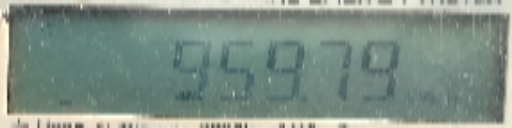5: (217, 32, 261, 107)
7: (319, 34, 354, 107)
9: (360, 32, 403, 104), (171, 31, 211, 107), (263, 38, 302, 102)
d: (298, 89, 315, 107)
